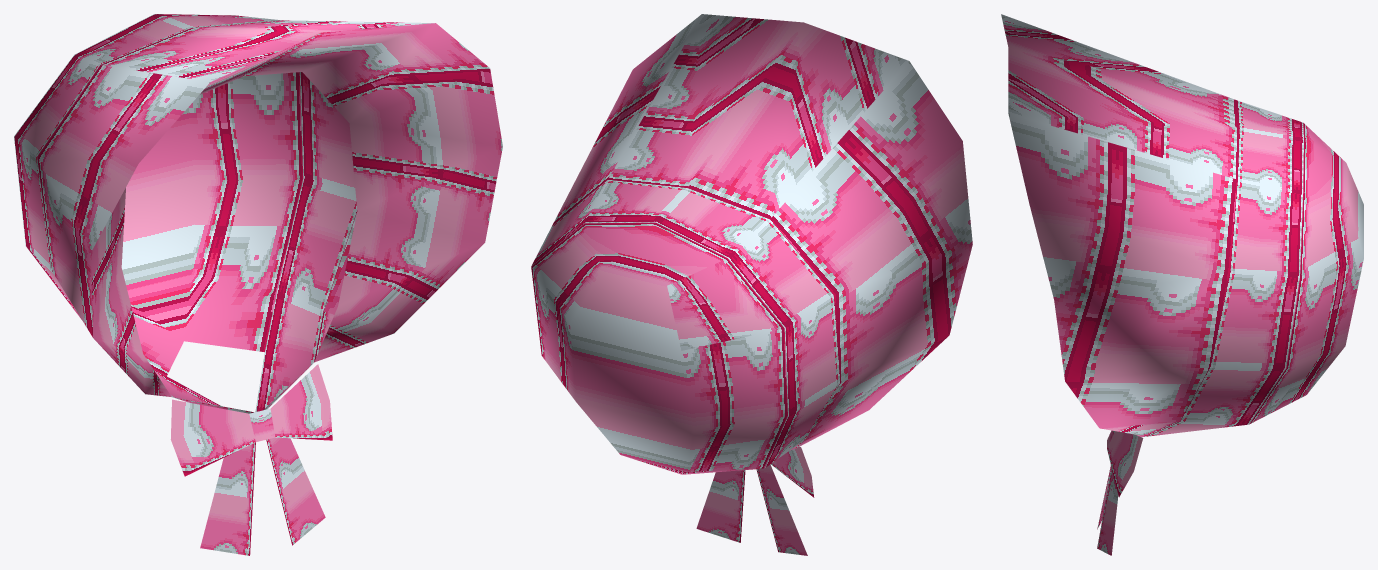
The model's file is code_head68.gltf.
3 views of the same model, side by side, from view 1: azimuth 30°, elevation 25°; view 2: azimuth 150°, elevation 25°; view 3: azimuth 270°, elevation 25° (orthographic). The views are drawn at different scales.
Visible parts, largest first — view 1: code_head68; view 2: code_head68; view 3: code_head68.
Boxes of the visible parts, <box> form: code_head68: <box>14,14,502,555</box>; code_head68: <box>531,14,972,555</box>; code_head68: <box>1001,14,1363,555</box>.
Bounding box in the file's own units: 0.8562 × 1.09 × 0.7261.
Materials: 1 (1 with a texture image).
